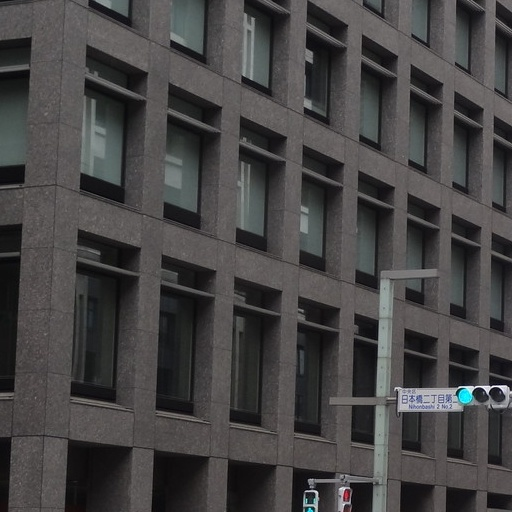Traffic_Signal_Blue: (388, 372, 508, 419)
